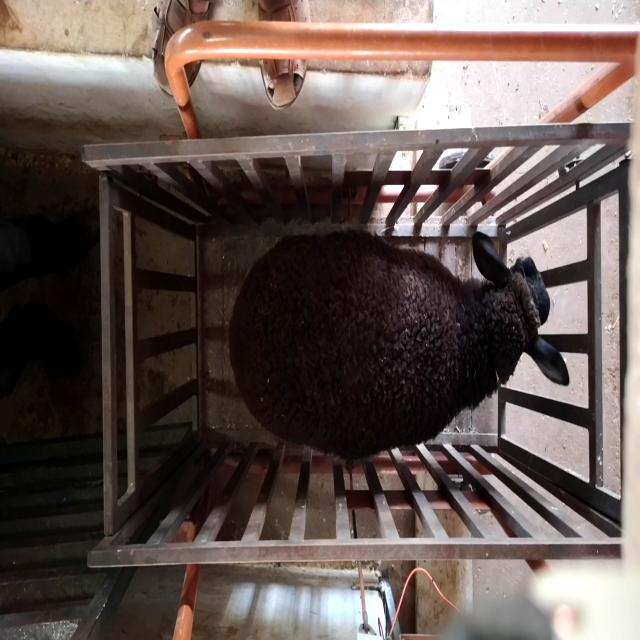sheep: (227, 229, 570, 460)
